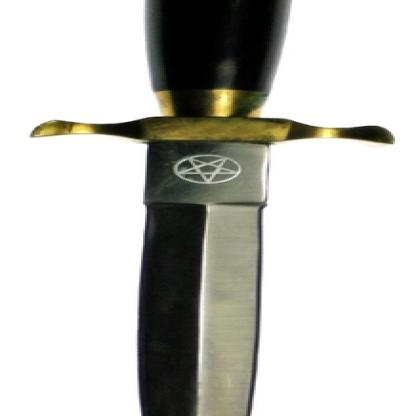knife: (25, 0, 393, 415)
